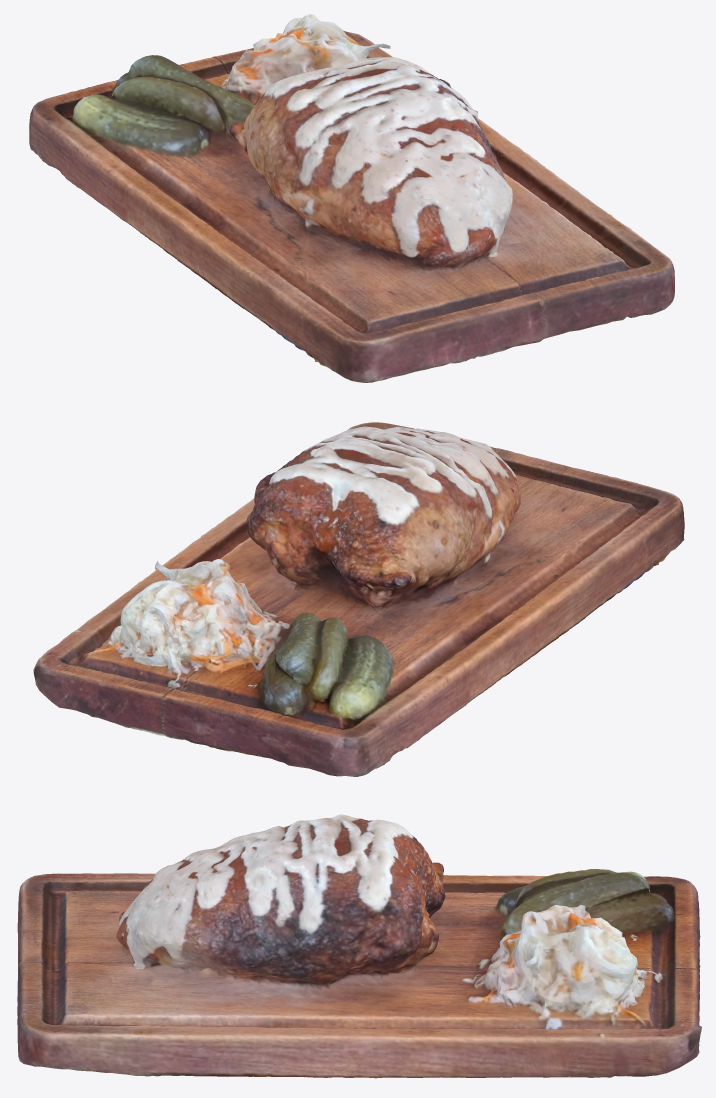
The model's file is sineyye morgh) (4).glb.
3 views of the same model, one above another, from view 1: azimuth 30°, elevation 25°; view 2: azimuth 150°, elevation 25°; view 3: azimuth 270°, elevation 25° (orthographic).
Visible parts, largest first — view 1: object 1; view 2: object 1; view 3: object 1.
Part boxes in pixels (bbox=[...]): object 1: bbox=[29, 14, 674, 382]; object 1: bbox=[33, 422, 684, 776]; object 1: bbox=[17, 814, 701, 1078].
Bounding box in the file's own units: 0.2071 × 0.0917 × 0.3512.
2 materials, 1 textured.
